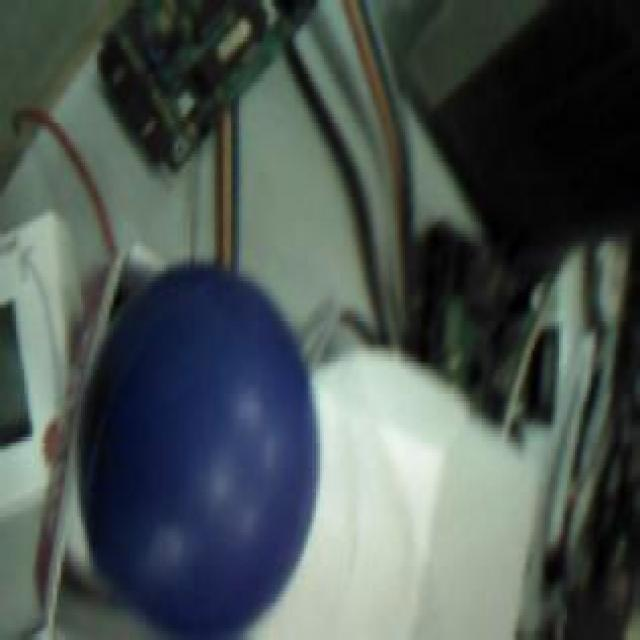BallPurple: (77, 258, 314, 640)
